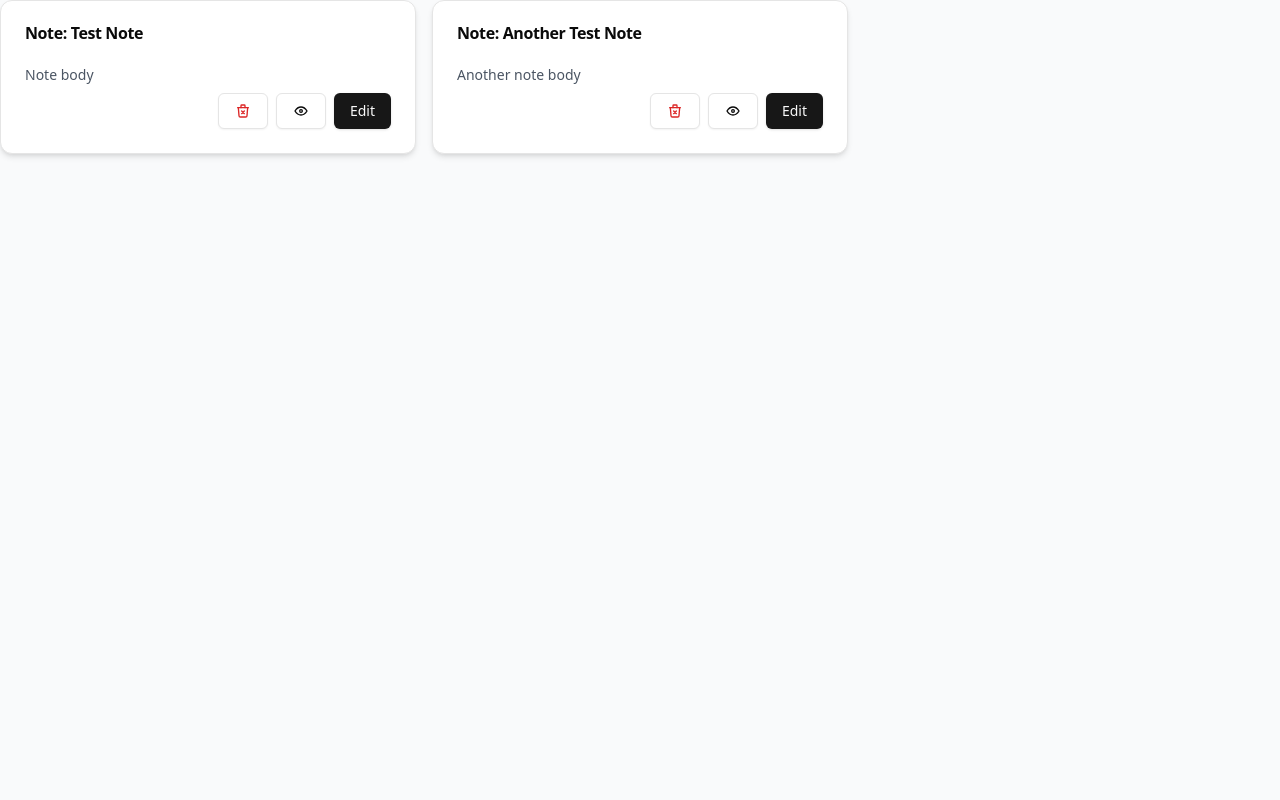
Scenario: NotesCardView › clicking on delete button opens the delete confirmation dialog
The image size is (1280, 800).
Step 1. Click the button with test id "delete-button" → [243, 111], box [218,93,268,129]
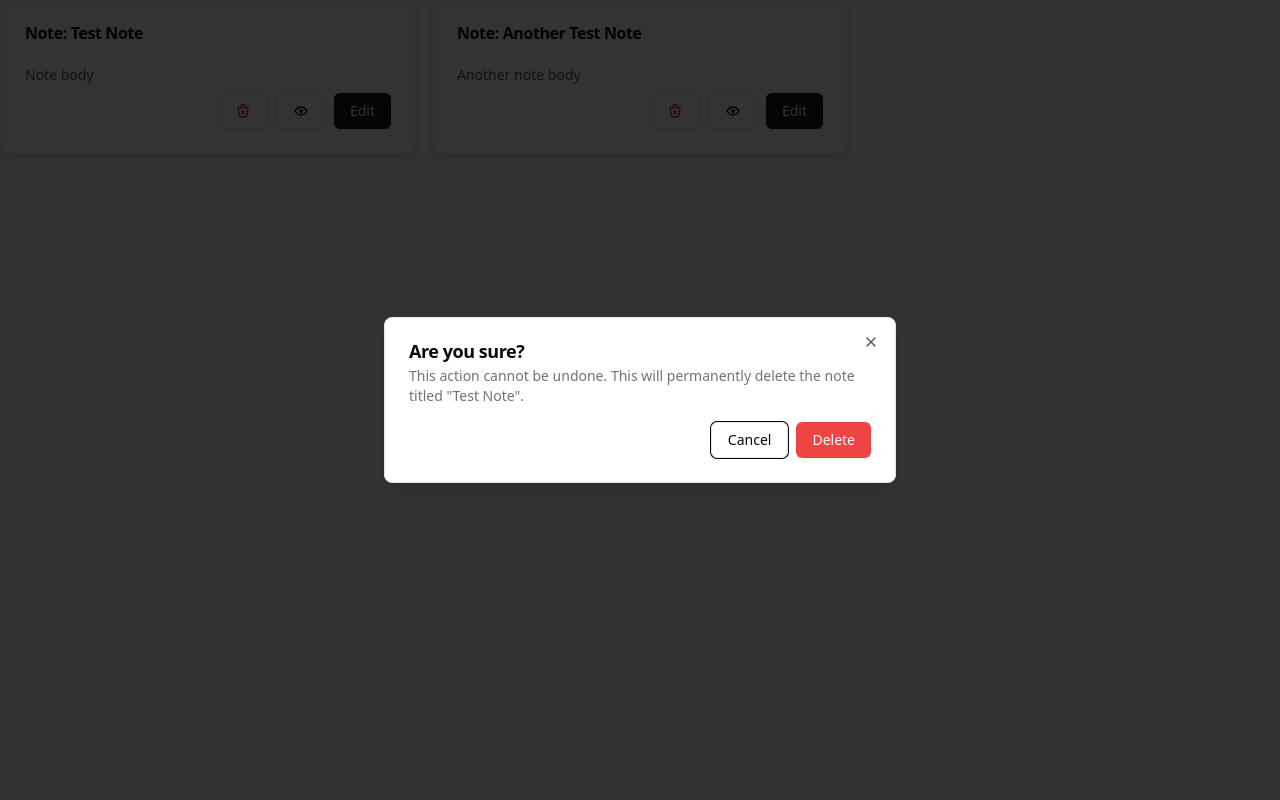
Result: the heading "Are you sure?" is shown at [409,339,524,363]
